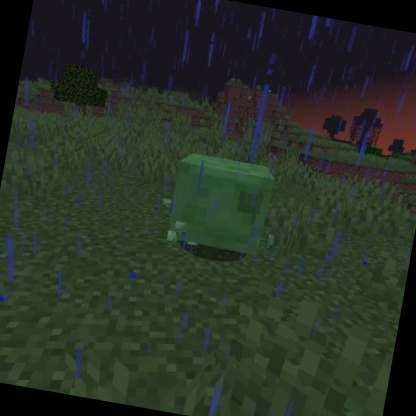slime: (158, 146, 284, 264)
